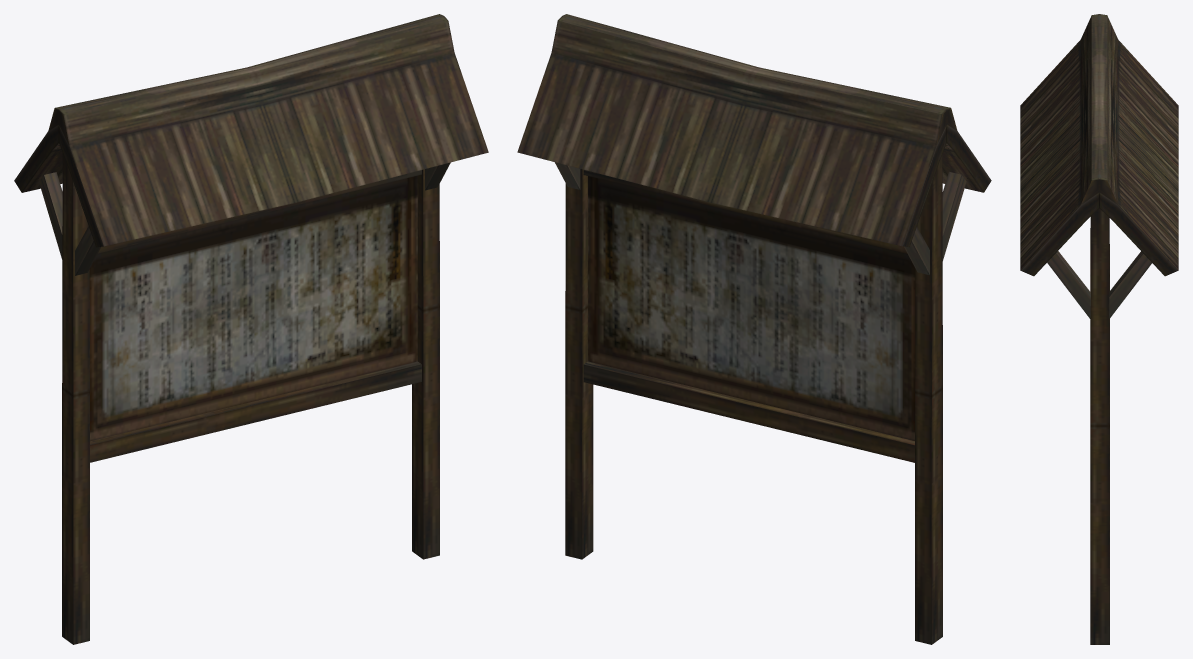
3 renders of one model, left to right at view 1: azimuth 30°, elevation 25°; view 2: azimuth 150°, elevation 25°; view 3: azimuth 270°, elevation 25°, orthographic. The views are drawn at different scales.
Parts seen in each view (by area): view 1: Sphere01; view 2: Sphere01; view 3: Sphere01.
Boxes of the visible parts, x1=… form: Sphere01: x1=14, y1=14, x2=488, y2=644; Sphere01: x1=517, y1=14, x2=991, y2=644; Sphere01: x1=1020, y1=14, x2=1178, y2=644.
Size of the model in its own units: 2.27 by 3.01 by 0.9184.
